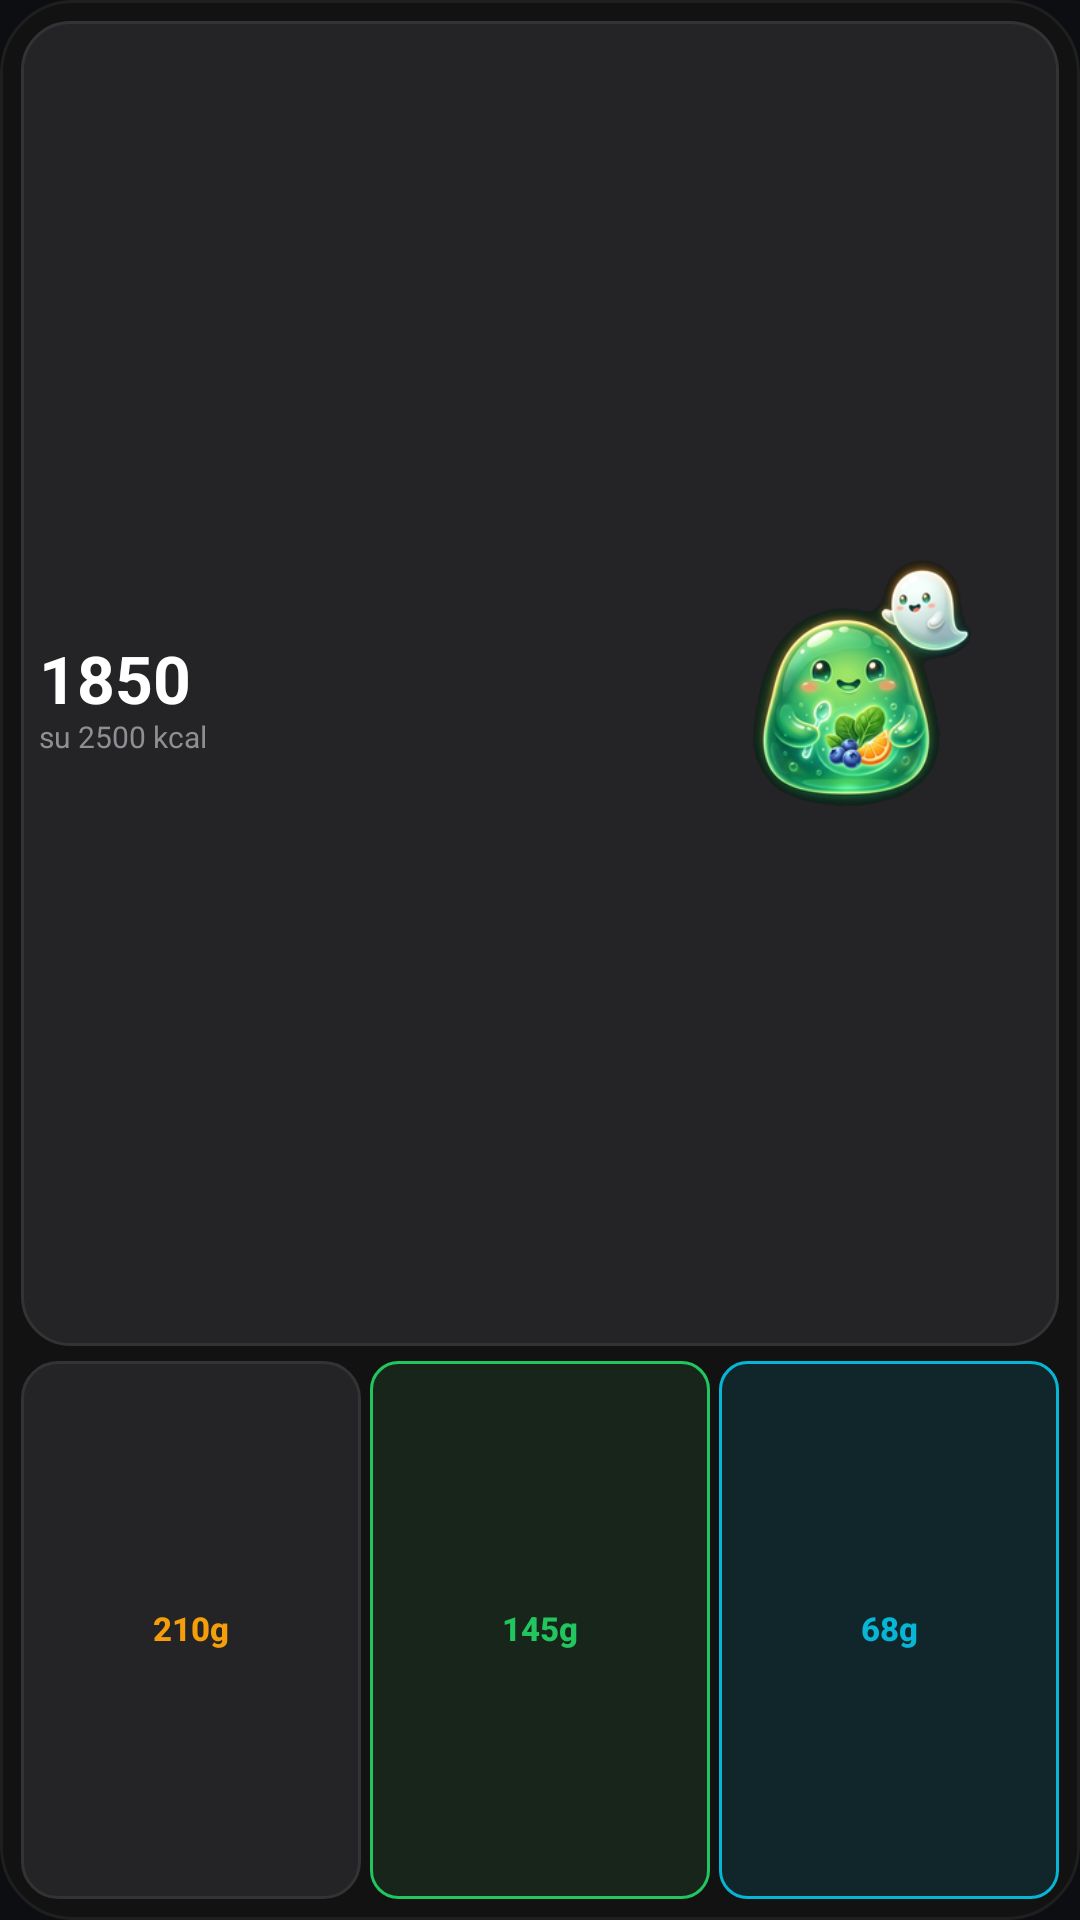

Screen size 1080 x 1920. Icon name, then its box in pixels as (x1, y1, x2, y2):
Stato Mascotte: (761, 566, 970, 798)
